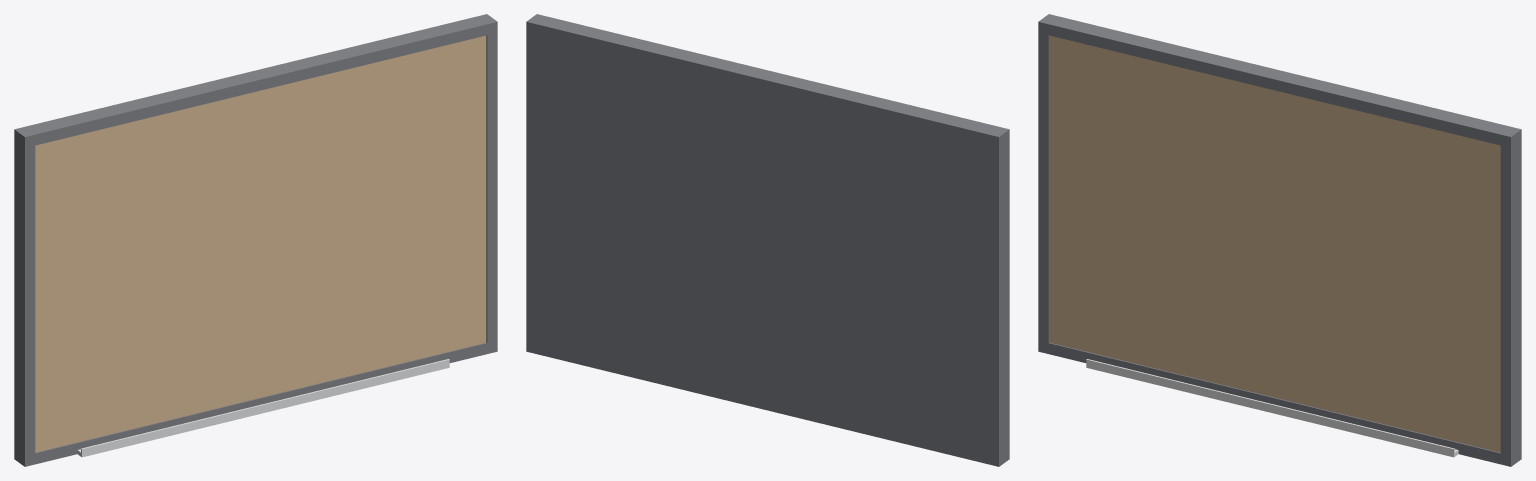
File: panel.glb
3 views of the same model, side by side, from view 1: azimuth 30°, elevation 25°; view 2: azimuth 150°, elevation 25°; view 3: azimuth 330°, elevation 25° (orthographic).
Visible parts, largest first — view 1: panel; view 2: panel; view 3: panel.
Boxes of the visible parts, <box> form: panel: <box>14,14,497,466</box>; panel: <box>526,14,1009,466</box>; panel: <box>1038,14,1521,466</box>.
Bounding box in the file's own units: 1.8 × 1.2 × 0.1.
